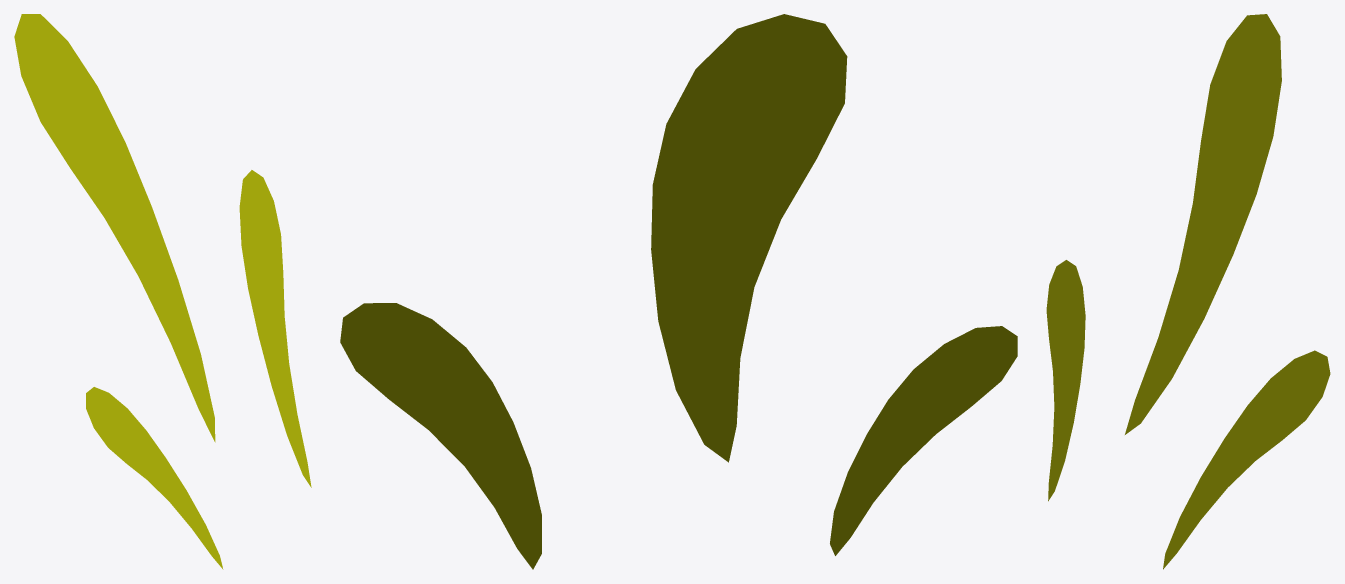
Rendered from yellow_frower3.fbx.
3 views of the same model, side by side, from view 1: azimuth 30°, elevation 25°; view 2: azimuth 150°, elevation 25°; view 3: azimuth 270°, elevation 25° (orthographic). The views are drawn at different scales.
Parts seen in each view (by area): view 1: frower_yellow1; view 2: frower_yellow1; view 3: frower_yellow1.
Part boxes in pixels (x1,y1,x2,y2): frower_yellow1: (14, 14, 311, 569); frower_yellow1: (340, 14, 1017, 569); frower_yellow1: (1046, 14, 1330, 569).
Size of the model in its own units: 24.46 by 34.43 by 19.64.
